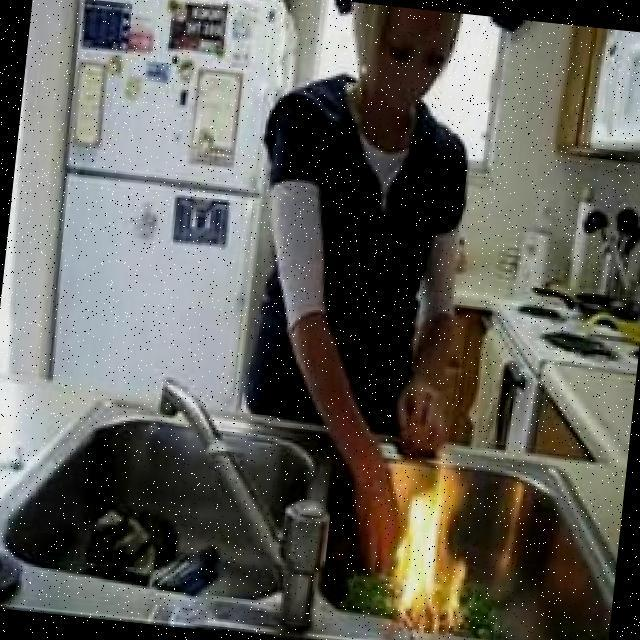Fire: (390, 454, 475, 635)
